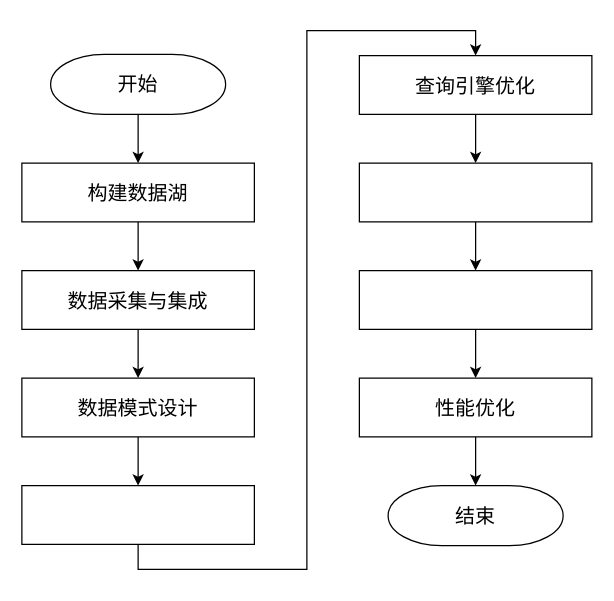
This 614x601 diagram has some shape labels left out. The centre of each missing label's shape, as x and y in pixels:
"元数据管理" goes at [475,192].
"列式存储与索引设计" goes at [137,514].
"数据安全与权限管理" goes at [475,299].
